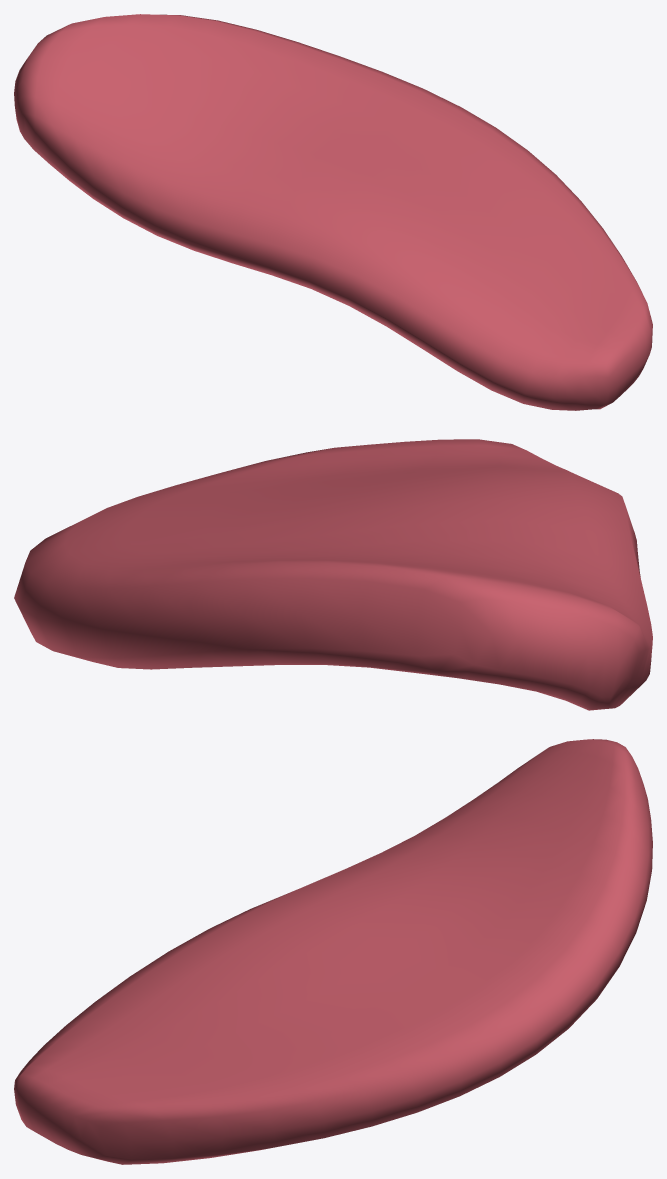
3 renders of one model, top to bottom at view 1: azimuth 30°, elevation 25°; view 2: azimuth 150°, elevation 25°; view 3: azimuth 270°, elevation 25°, orthographic. The views are drawn at different scales.
Parts seen in each view (by area): view 1: 左侧腓肠肌内侧头腱下囊; view 2: 左侧腓肠肌内侧头腱下囊; view 3: 左侧腓肠肌内侧头腱下囊.
Boxes of the visible parts, box(x1,y1,x2,y2) form: 左侧腓肠肌内侧头腱下囊: box(14, 14, 652, 410); 左侧腓肠肌内侧头腱下囊: box(14, 439, 652, 710); 左侧腓肠肌内侧头腱下囊: box(14, 739, 652, 1164).
Size of the model in its own units: 0.0232 by 0.0119 by 0.0275.
